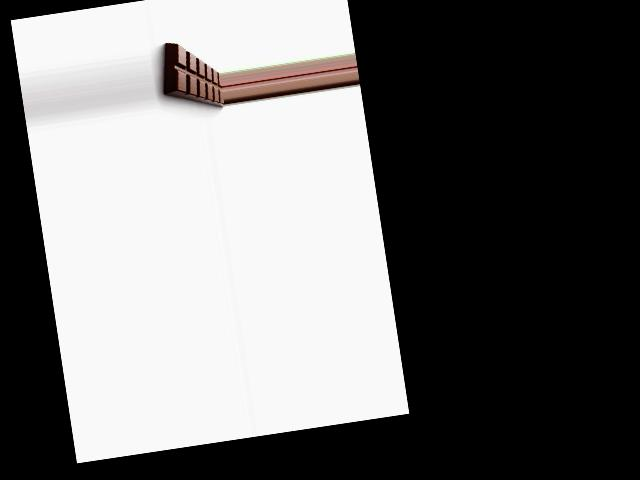chocolate: (154, 35, 224, 119)
